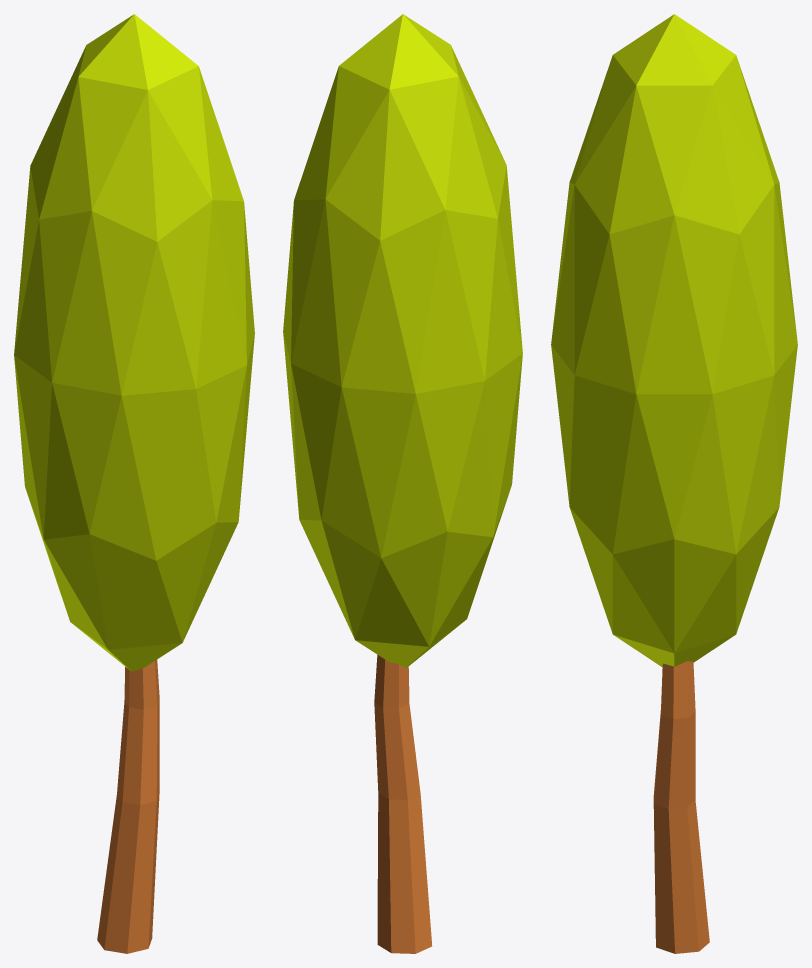
Rendered from Tree3.fbx.
The picture shows the model from 3 angles, left to right: view 1: azimuth 30°, elevation 25°; view 2: azimuth 150°, elevation 25°; view 3: azimuth 270°, elevation 25°; orthographic projection.
Parts seen in each view (by area): view 1: Tree3; view 2: Tree3; view 3: Tree3.
Part boxes in pixels (bbox=[...]): Tree3: bbox=[14, 14, 254, 953]; Tree3: bbox=[283, 14, 522, 953]; Tree3: bbox=[551, 14, 797, 953].
Size of the model in its own units: 19.05 by 83.36 by 20.03.
